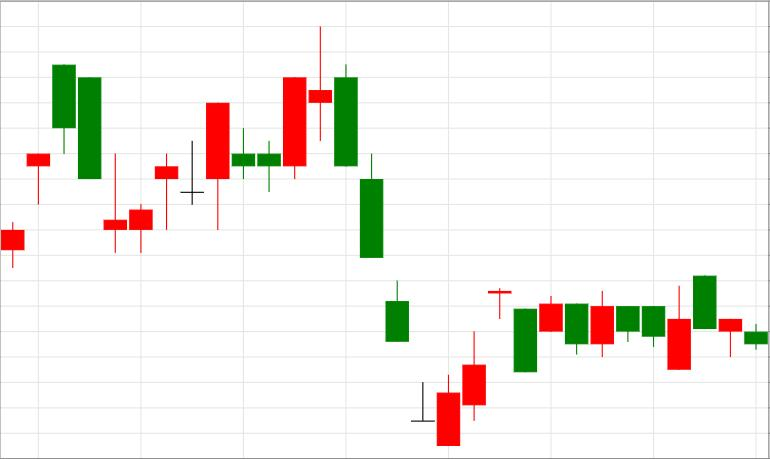three_black_crows_fall: (104, 25, 409, 342)
